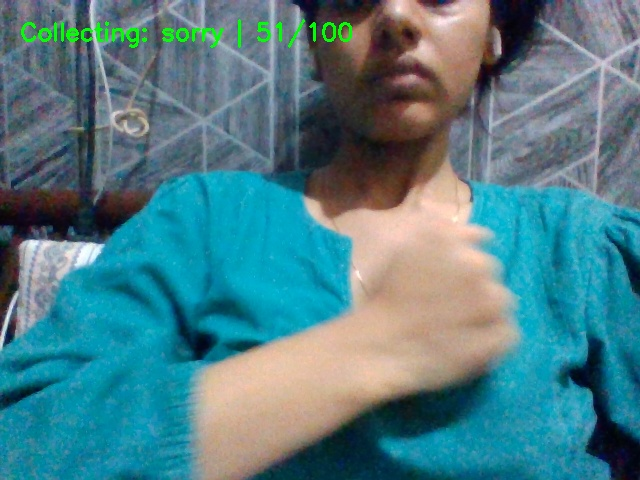sorry: (356, 212, 542, 427)
